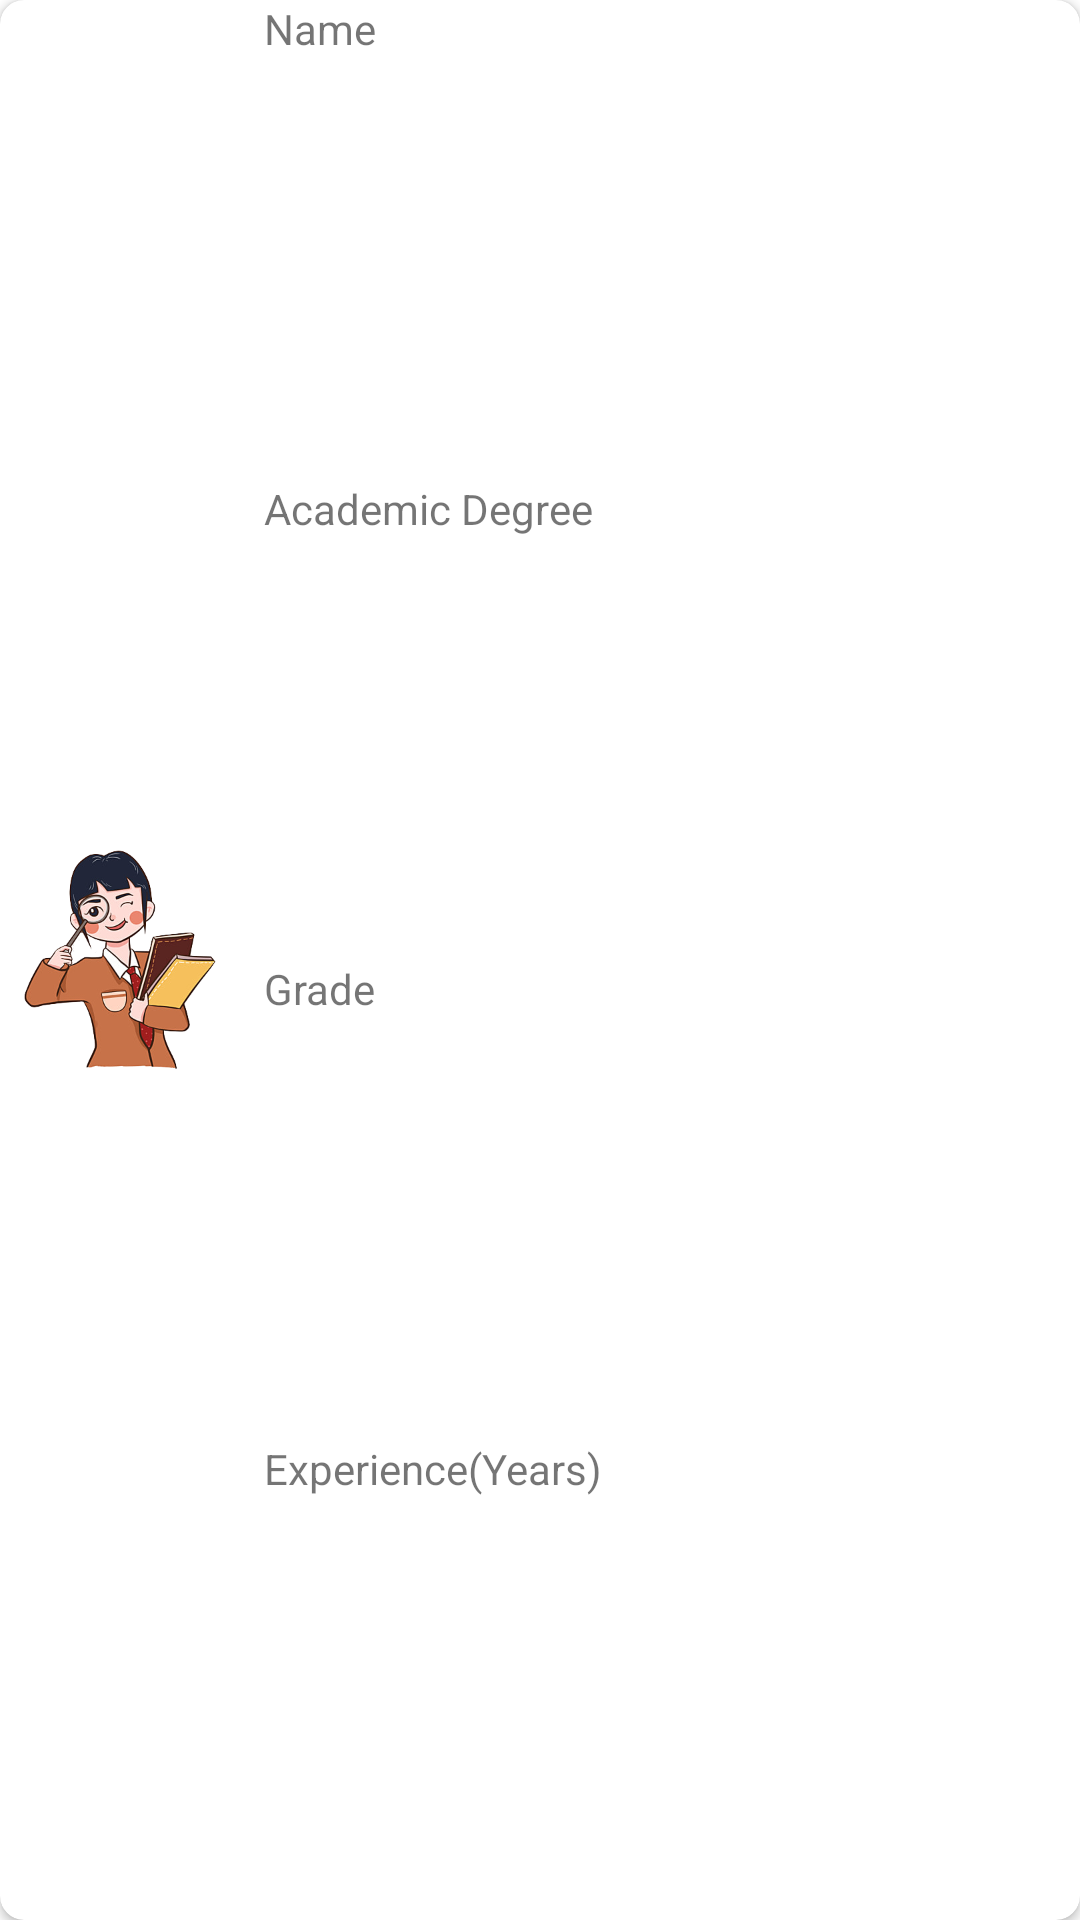

Screen size 1080 × 1920. Icon name, then its center in pixels as point (x, y):
myteacher trans: point (120, 959)
